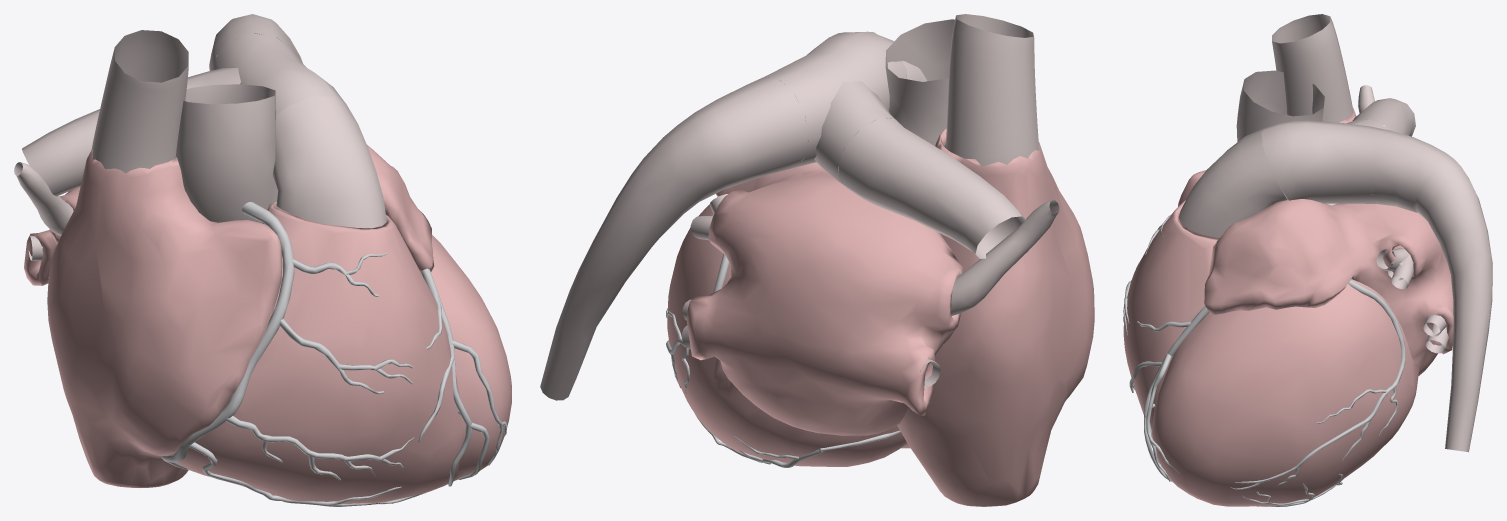
The model's file is heart.glb.
The picture shows the model from 3 angles, left to right: view 1: azimuth 30°, elevation 25°; view 2: azimuth 150°, elevation 25°; view 3: azimuth 270°, elevation 25°; orthographic projection. The views are drawn at different scales.
Parts seen in each view (by area): view 1: right_atrium, right_ventricle, ascending_aorta, pulmonary_trunk, superior_vena_cava, left_ventricle, RCA, bifurcation_of_pulmonary_trunk, left_atrium, right_pulmonary_artery, LAD, right_superior_pulmonary_vein (+1 smaller); view 2: left_atrium, right_atrium, left_pulmonary_artery, right_pulmonary_artery, left_ventricle, superior_vena_cava, bifurcation_of_pulmonary_trunk, ascending_aorta, right_superior_pulmonary_vein, RCA, LCX; view 3: left_ventricle, left_atrium, left_pulmonary_artery, right_ventricle, bifurcation_of_pulmonary_trunk, pulmonary_trunk, superior_vena_cava, ascending_aorta, LCX, LAD, right_pulmonary_artery, left_superior_pulmonary_vein (+2 smaller).
Part boxes in pixels (x1,y1,x2,y2): right_atrium: (47,150,282,487); right_ventricle: (166,202,462,504); ascending_aorta: (175,84,279,223); pulmonary_trunk: (272,96,386,228); superior_vena_cava: (91,30,188,173); left_ventricle: (431,235,511,480); RCA: (161,202,425,506); bifurcation_of_pulmonary_trunk: (186,33,345,114); left_atrium: (24,145,434,285); right_pulmonary_artery: (22,109,99,196); LAD: (418,268,507,486); right_superior_pulmonary_vein: (14,162,73,235); left_atrium: (687,162,962,435); right_atrium: (897,128,1094,506); left_pulmonary_artery: (540,77,808,400); right_pulmonary_artery: (838,118,1026,258); left_ventricle: (667,204,907,466); superior_vena_cava: (945,14,1039,166); bifurcation_of_pulmonary_trunk: (764,31,906,184); ascending_aorta: (885,19,954,145); right_superior_pulmonary_vein: (950,200,1059,315); RCA: (695,414,900,467); LCX: (666,254,729,393); left_ventricle: (1152,279,1418,506); left_atrium: (1204,198,1453,375); left_pulmonary_artery: (1371,130,1492,452); right_ventricle: (1123,200,1219,429); bifurcation_of_pulmonary_trunk: (1261,119,1390,203); pulmonary_trunk: (1178,128,1287,237); superior_vena_cava: (1272,14,1353,122); ascending_aorta: (1236,70,1336,205); LCX: (1230,280,1405,489); LAD: (1129,306,1209,481); right_pulmonary_artery: (1352,98,1415,136); left_superior_pulmonary_vein: (1376,248,1413,289).
Size of the model in its own units: 1.14 by 1.19 by 1.02.
